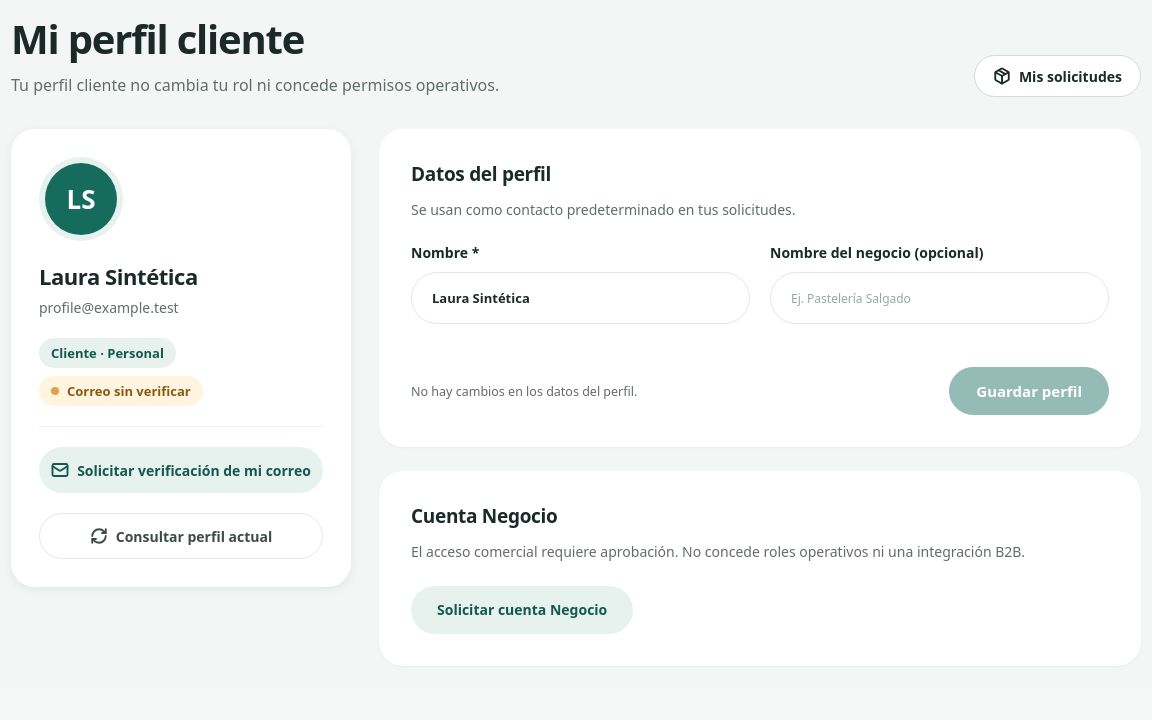
it: blocks repeat after lost response until explicit current-profile read
Replace the text in the field labelled "Nombre *" with "Nuevo nombre" at point(580, 298), box [411,272,750,324]
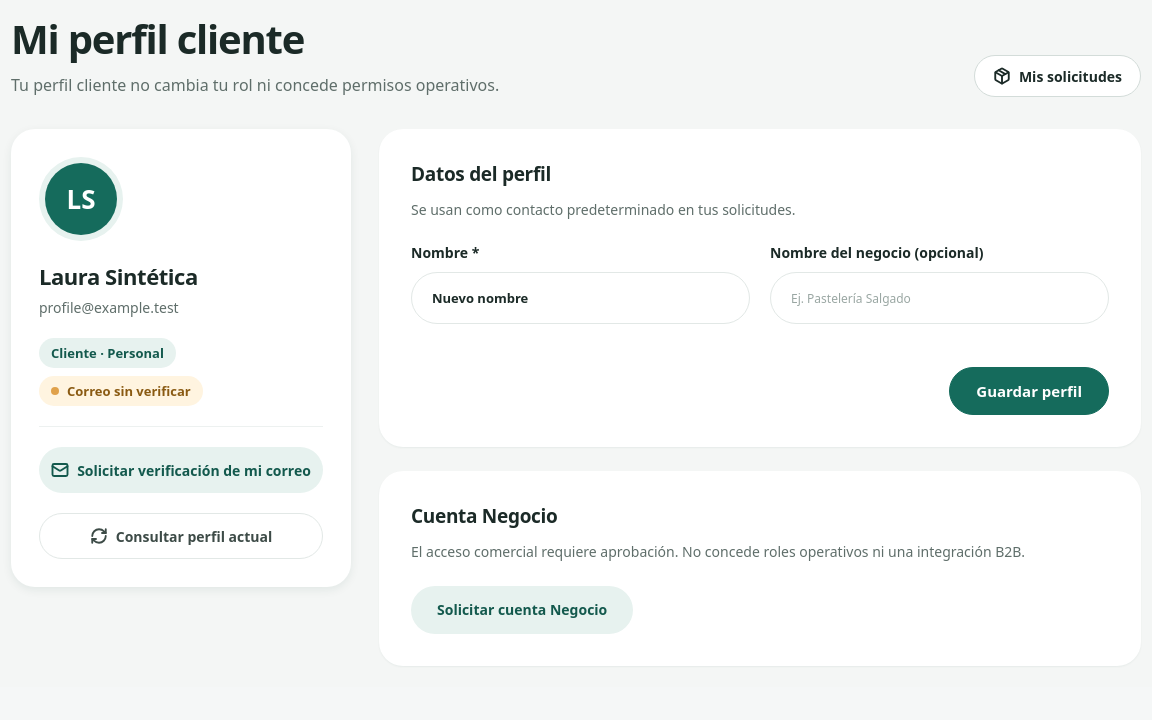
Click the button "Guardar perfil" at point(1029, 391), box [949,367,1109,415]
(page scrolled)
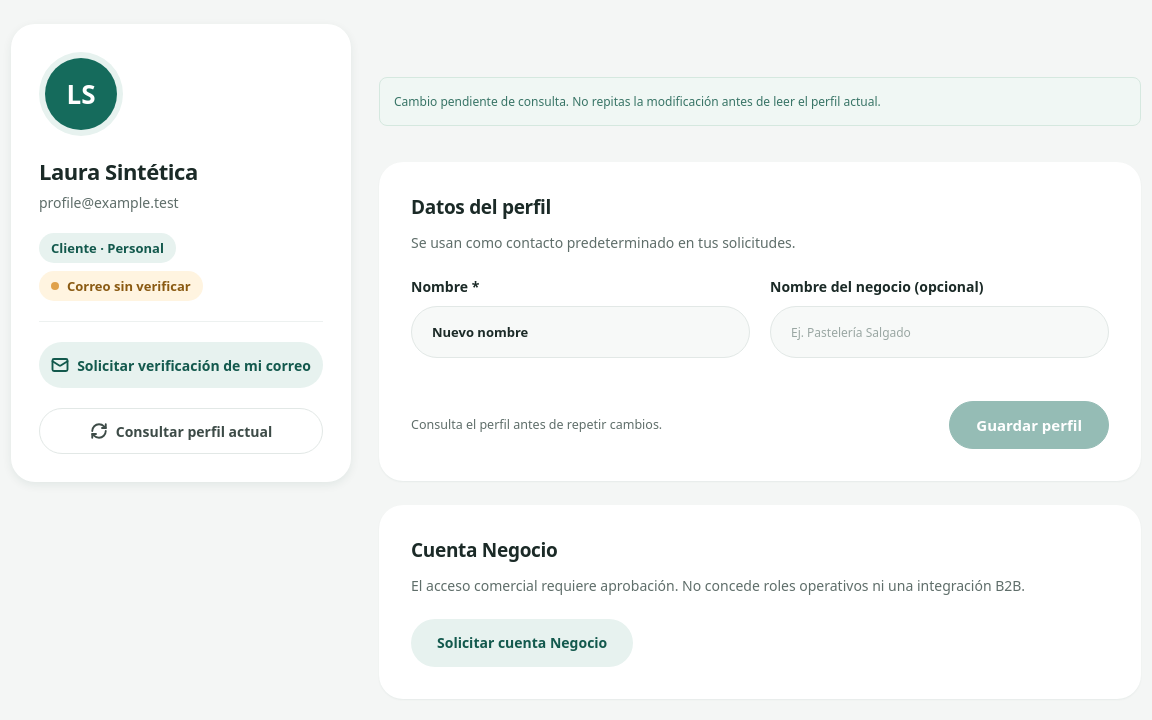
expect the text "Cambio pendiente de consulta" is shown: met, box [394,93,881,110]
expect the button "Guardar perfil" is disabled: met, box [949,401,1109,449]
